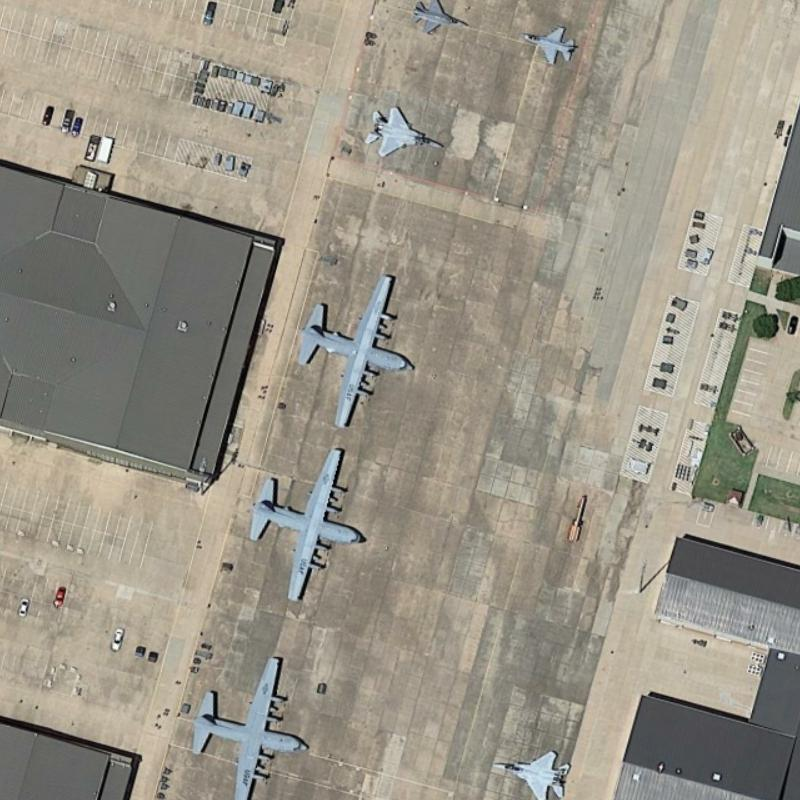A13: (356, 93, 447, 165), (490, 741, 575, 799)
A2: (296, 261, 428, 430), (242, 440, 374, 604), (182, 645, 311, 799)
A5: (515, 12, 580, 71), (404, 0, 476, 39)
